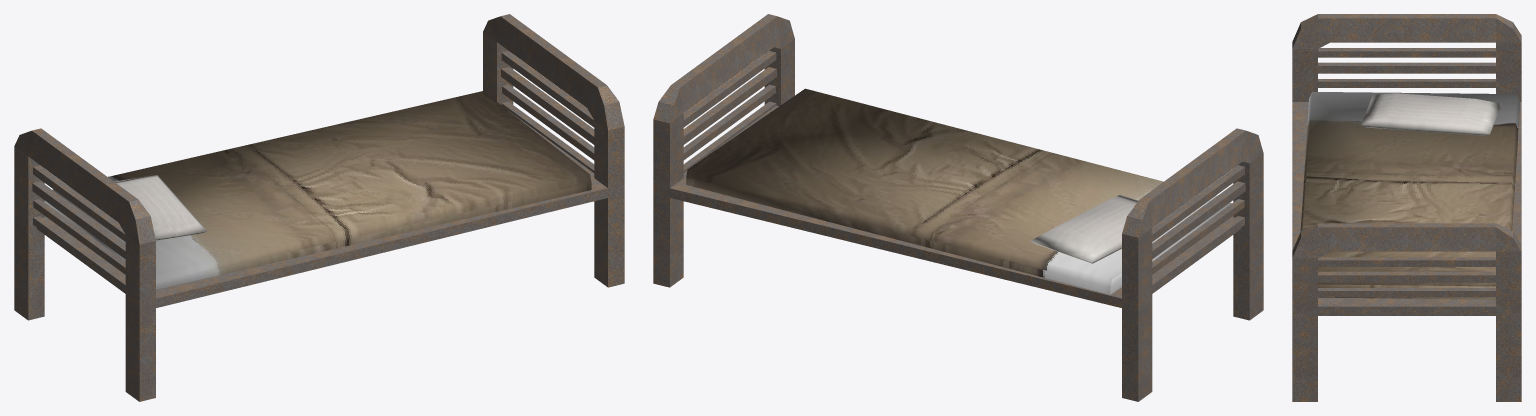
Rendered from bed.glb.
The picture shows the model from 3 angles, left to right: view 1: azimuth 30°, elevation 25°; view 2: azimuth 150°, elevation 25°; view 3: azimuth 270°, elevation 25°; orthographic projection. The views are drawn at different scales.
Visible parts, largest first — view 1: mattress, frame, pillah; view 2: mattress, frame, pillah; view 3: frame, mattress, pillah.
Boxes of the visible parts, x1=… form: mattress: x1=44, y1=91, x2=591, y2=289; frame: x1=14, y1=14, x2=624, y2=401; pillah: x1=114, y1=175, x2=207, y2=240; mattress: x1=686, y1=88, x2=1230, y2=294; frame: x1=653, y1=14, x2=1263, y2=401; pillah: x1=1030, y1=194, x2=1138, y2=263; frame: x1=1292, y1=14, x2=1521, y2=401; mattress: x1=1300, y1=91, x2=1519, y2=299; pillah: x1=1361, y1=93, x2=1501, y2=135.
Size of the model in its own units: 2.01 by 0.75 by 0.9.
2 materials, 2 textured.
